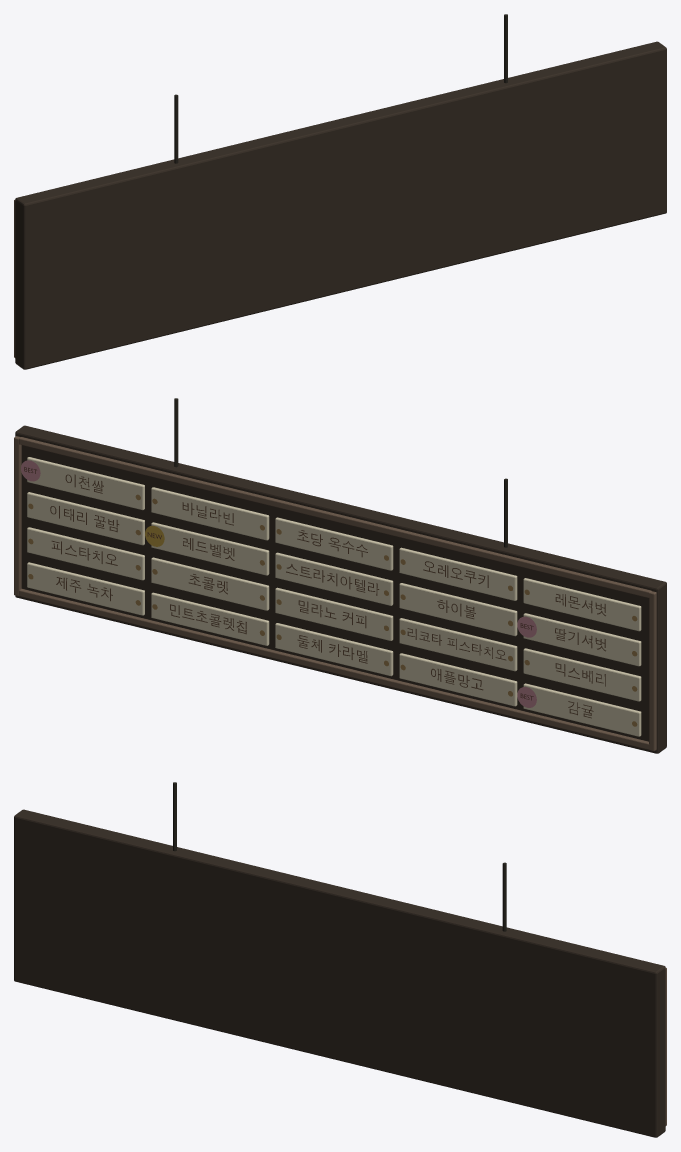
File: menu.glb
3 renders of one model, top to bottom at view 1: azimuth 30°, elevation 25°; view 2: azimuth 150°, elevation 25°; view 3: azimuth 330°, elevation 25°, orthographic.
Visible parts, largest first — view 1: Gelati_menu; view 2: Gelati_menu; view 3: Gelati_menu.
Boxes of the visible parts, <box> form: Gelati_menu: <box>14,14,666,369</box>; Gelati_menu: <box>14,398,666,753</box>; Gelati_menu: <box>14,782,666,1137</box>.
Size of the model in its own units: 3.2 by 1.11 by 0.1195.
